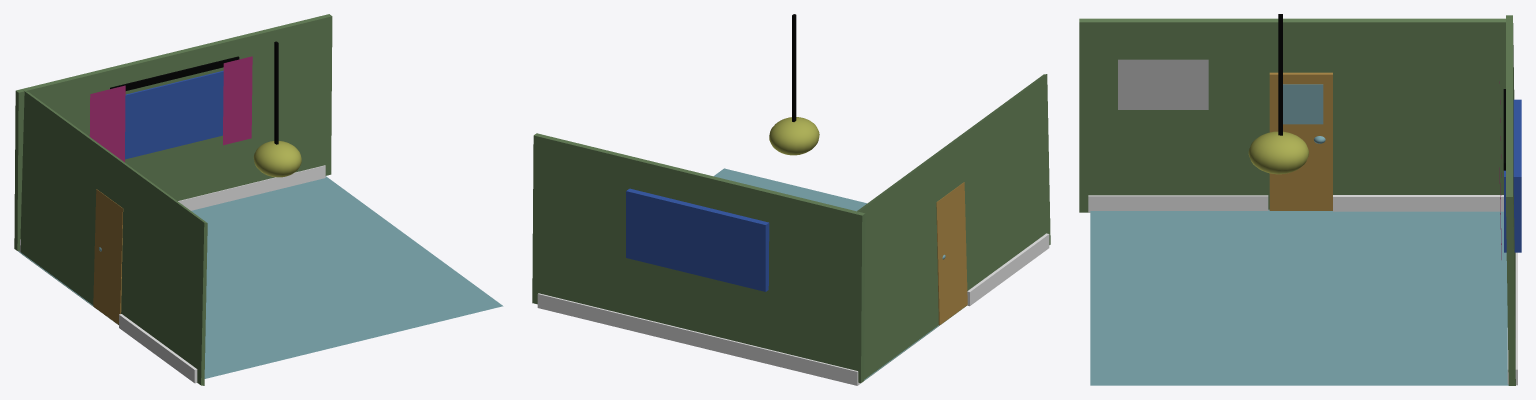
3 renders of one model, left to right at view 1: azimuth 30°, elevation 25°; view 2: azimuth 150°, elevation 25°; view 3: azimuth 270°, elevation 25°, orthographic. The views are drawn at different scales.
Visible parts, largest first — view 1: pPlane1, pCube1, pCube2, pCube3, pCube5, pPlane3, pPlane2, pCube4, pSphere1, pCube6, pCube9, pCube8; view 2: pCube2, pCube1, pCube3, pCube4, pCube5, pPlane1, pSphere1, pCube6, pCube8; view 3: pPlane1, pCube1, pCube5, pPlane4, pCube2, pCube7, pCube6, pSphere1, pCube10, pCube3, pCube8, pCube4.
Boxes of the visible parts, <box> form: pPlane1: <box>18,176,503,378</box>; pCube1: <box>20,90,207,385</box>; pCube2: <box>14,14,332,250</box>; pCube3: <box>125,70,223,159</box>; pCube5: <box>93,189,123,324</box>; pPlane3: <box>223,56,252,145</box>; pPlane2: <box>89,85,125,162</box>; pCube4: <box>18,165,325,252</box>; pSphere1: <box>253,141,301,177</box>; pCube6: <box>119,314,197,383</box>; pCube9: <box>110,56,239,90</box>; pCube8: <box>274,41,278,144</box>; pCube2: <box>532,133,865,383</box>; pCube1: <box>856,74,1050,380</box>; pCube3: <box>626,188,769,291</box>; pCube4: <box>537,293,860,385</box>; pCube5: <box>936,182,967,325</box>; pPlane1: <box>714,168,939,380</box>; pSphere1: <box>769,117,819,155</box>; pCube6: <box>967,233,1049,306</box>; pCube8: <box>792,14,796,121</box>; pPlane1: <box>1090,209,1508,385</box>; pCube1: <box>1079,18,1511,212</box>; pCube5: <box>1269,72,1332,210</box>; pPlane4: <box>1118,59,1208,109</box>; pCube2: <box>1506,15,1515,385</box>; pCube7: <box>1333,195,1503,211</box>; pCube6: <box>1088,195,1268,212</box>; pSphere1: <box>1248,131,1308,174</box>; pCube10: <box>1283,84,1323,124</box>; pCube3: <box>1504,99,1521,252</box>; pCube8: <box>1278,14,1282,135</box>; pCube4: <box>1507,252,1517,385</box>.
Bounding box in the file's own units: 24.46 × 18.25 × 25.14.
